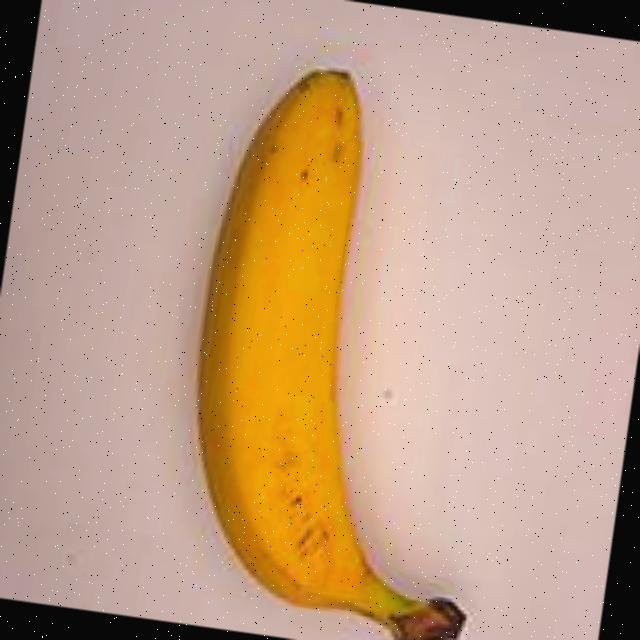Ripe: (100, 1, 574, 640)
